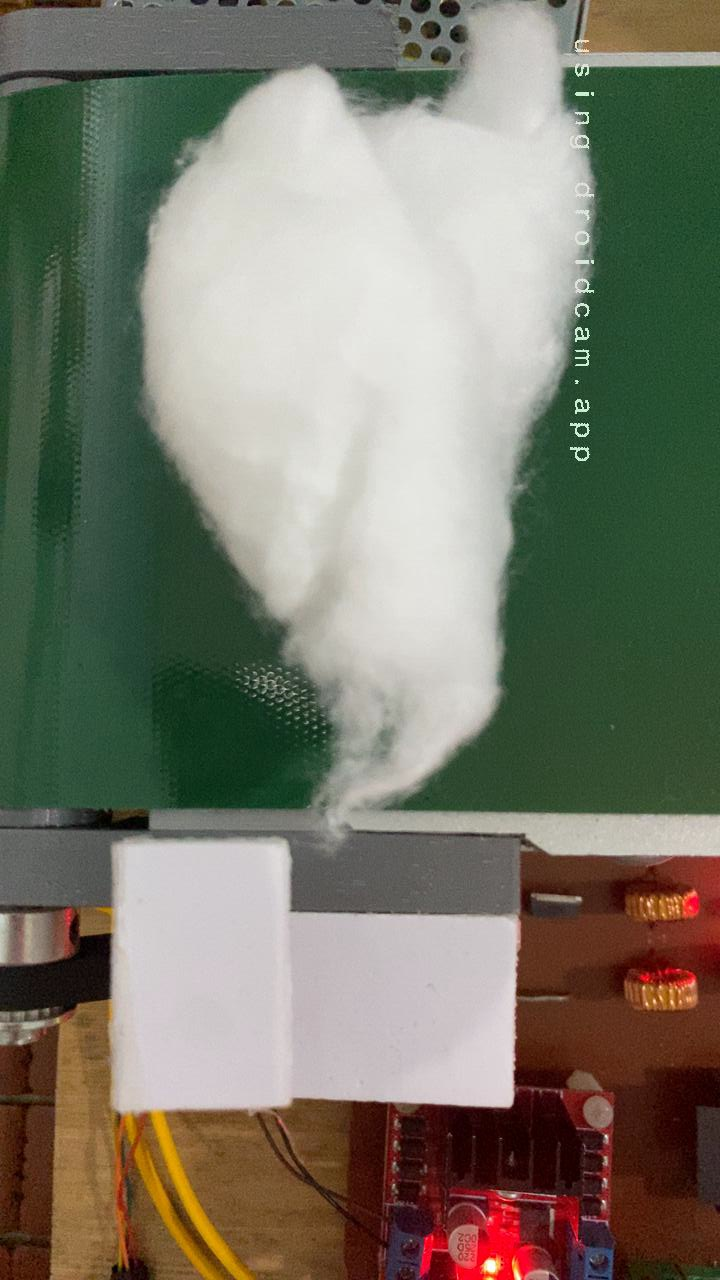cotton: (132, 70, 604, 810)
